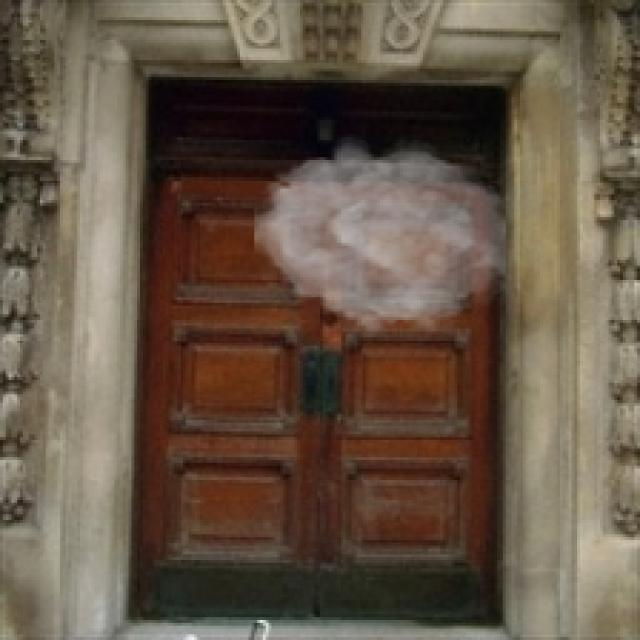smoke: (254, 134, 506, 340)
